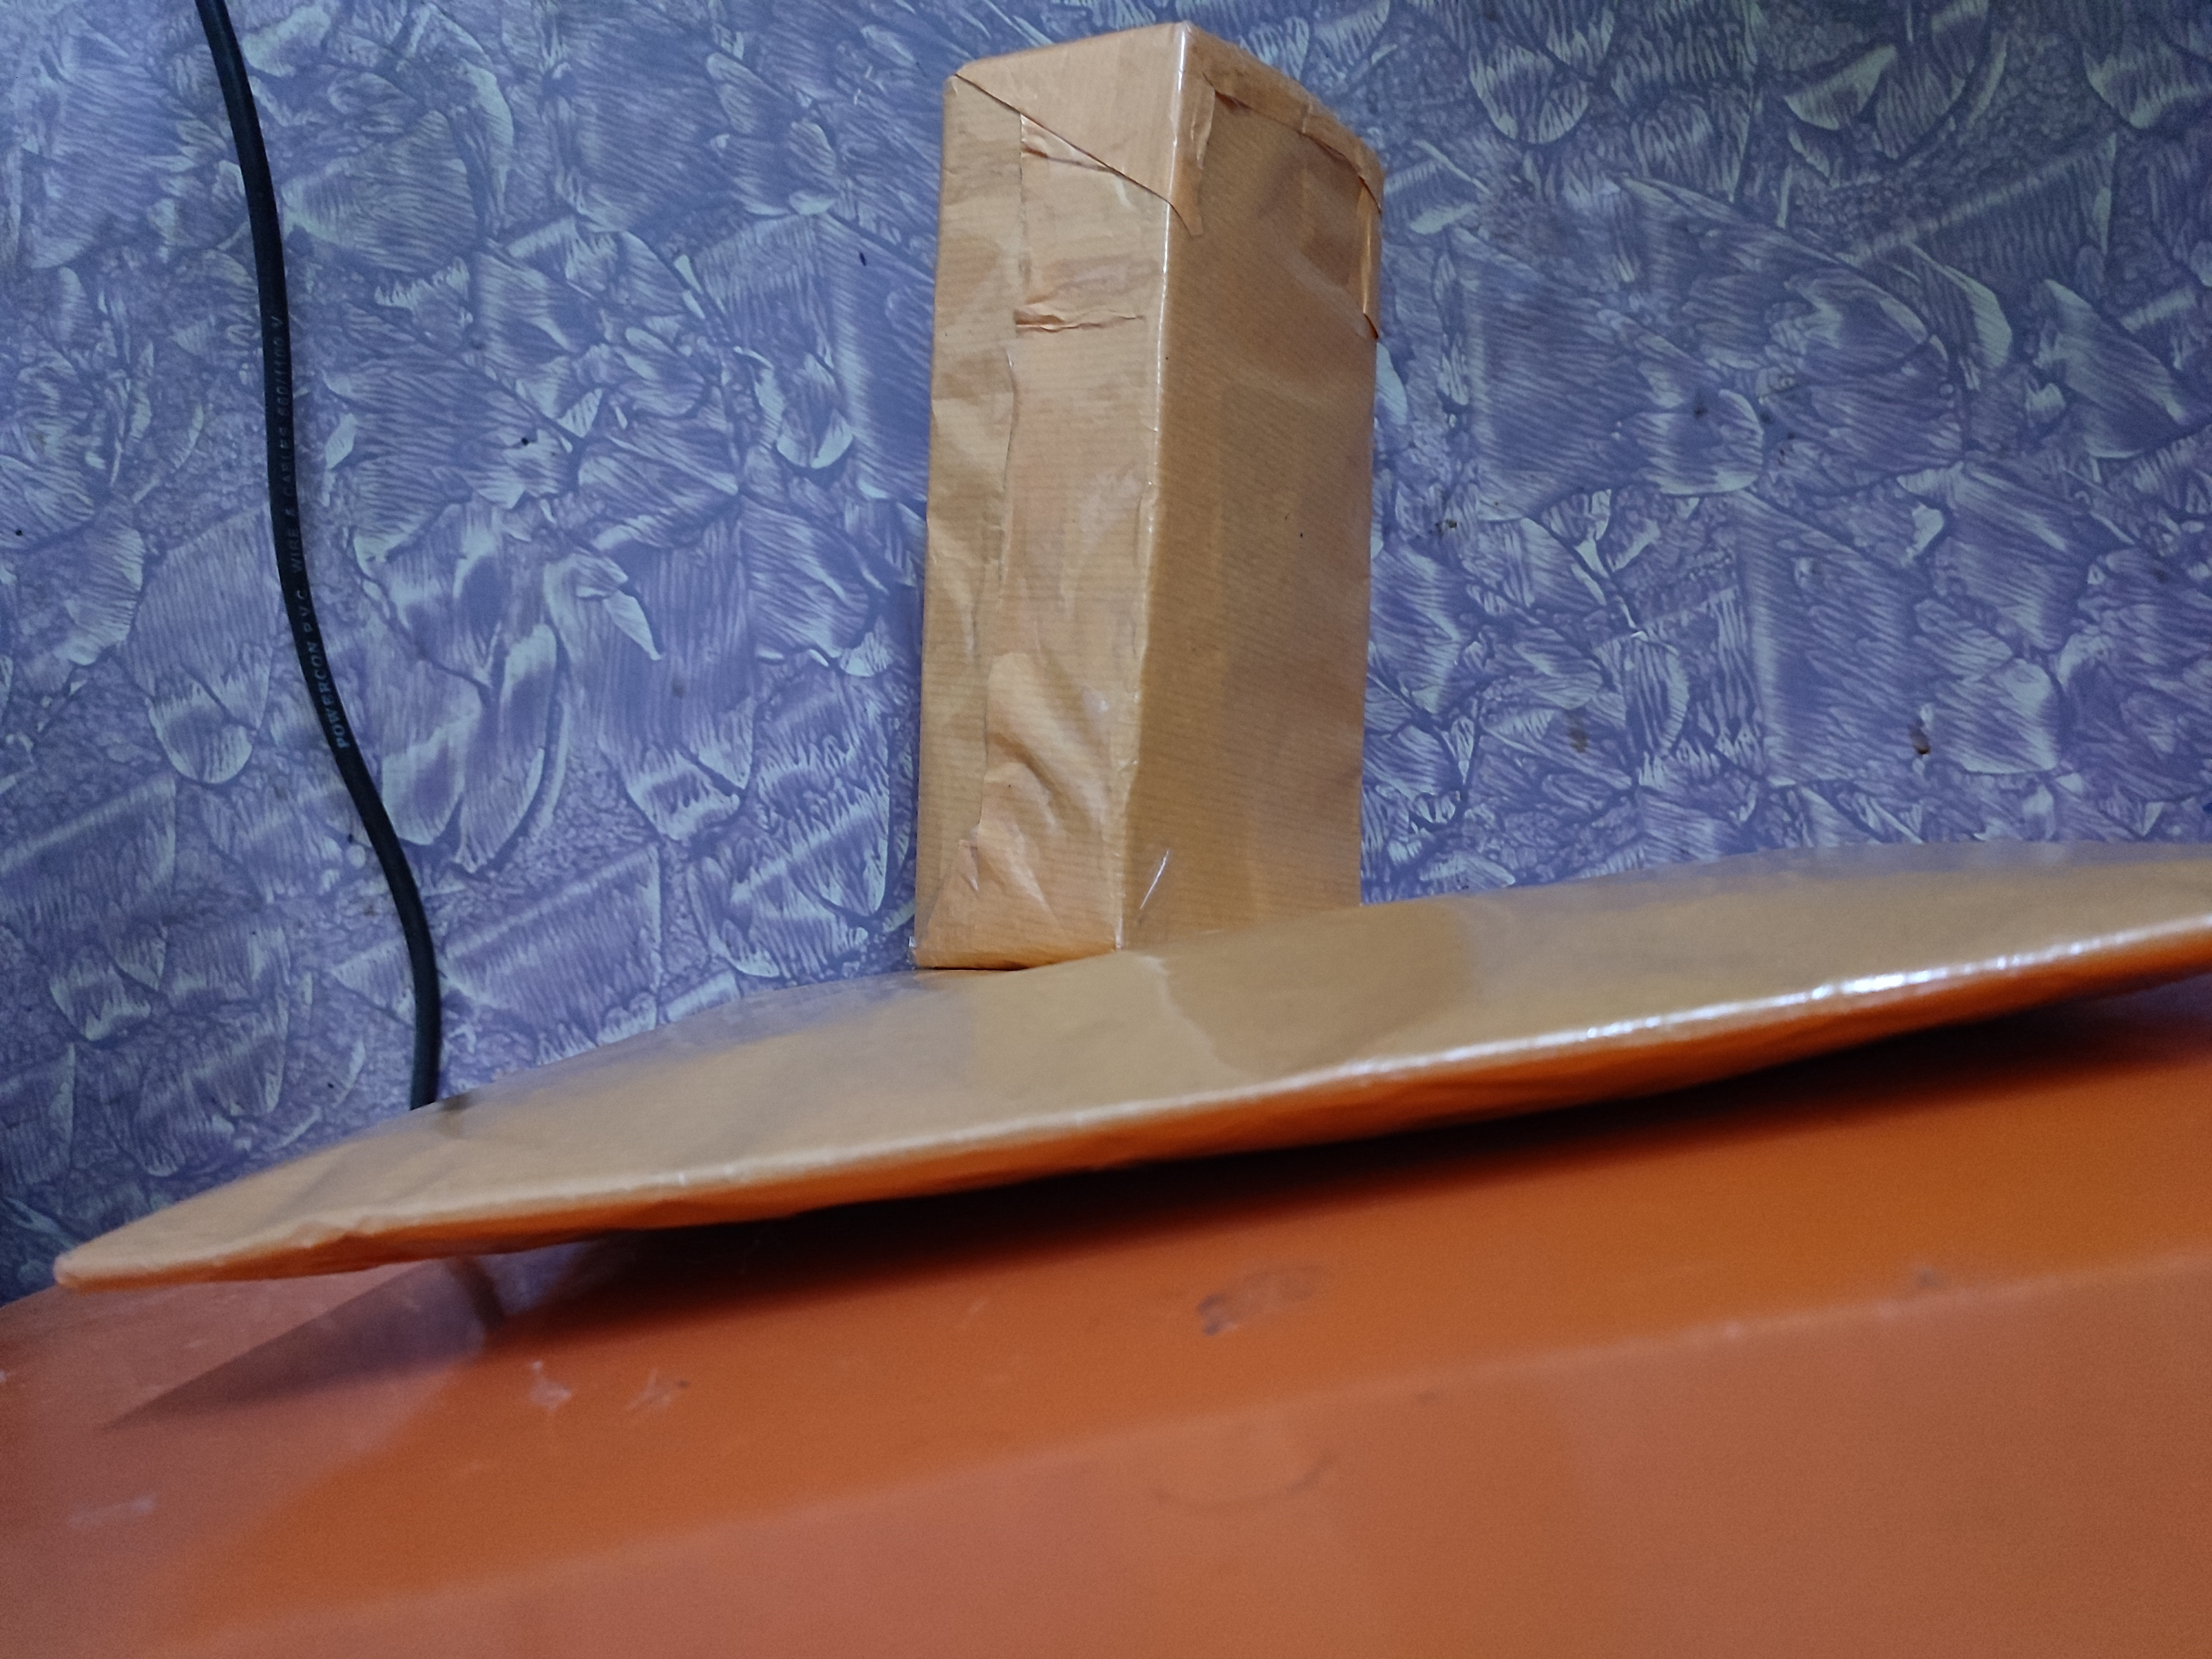Box: (787, 44, 1388, 1131)
